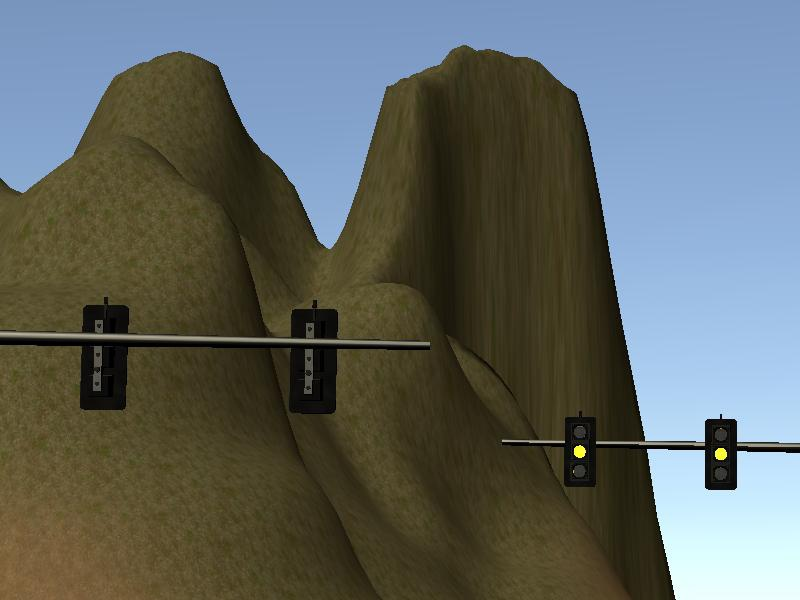yellow_light: (708, 419, 737, 488), (565, 417, 592, 485)
